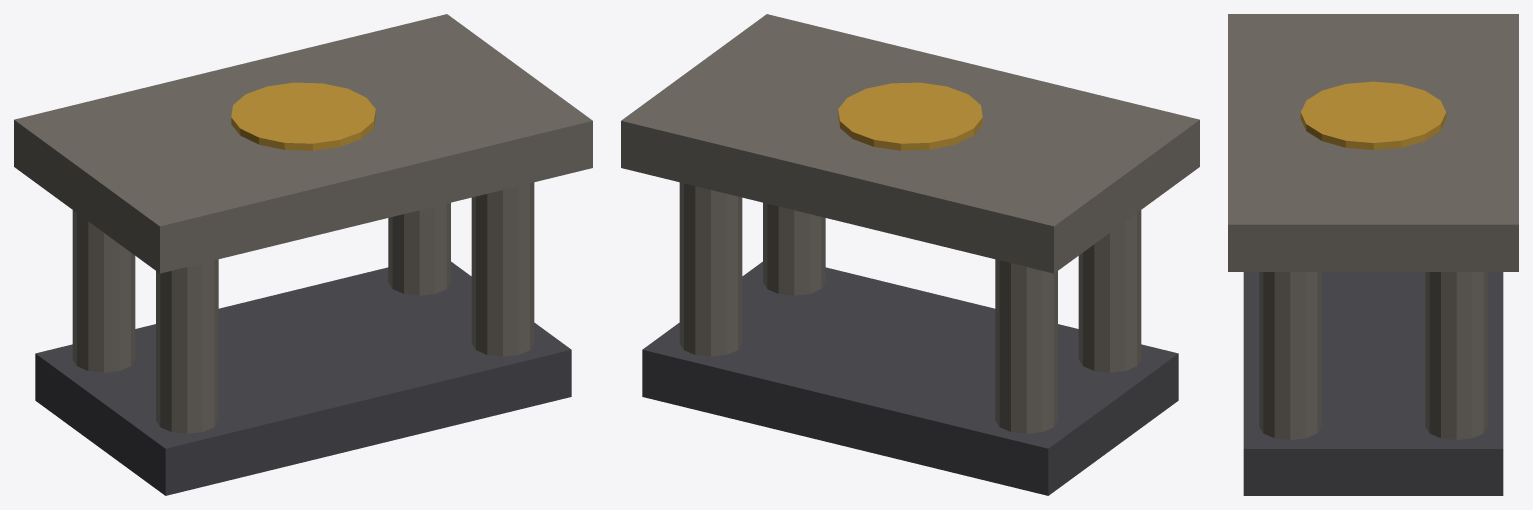
The model's file is dungeon_altar_variant_a.obj.
The picture shows the model from 3 angles, left to right: view 1: azimuth 30°, elevation 25°; view 2: azimuth 150°, elevation 25°; view 3: azimuth 270°, elevation 25°; orthographic projection.
Parts seen in each view (by area): view 1: dungeon_altar_variant_a; view 2: dungeon_altar_variant_a; view 3: dungeon_altar_variant_a.
Boxes of the visible parts, x1,y1,x2,y2 form: dungeon_altar_variant_a: (14, 14, 592, 495); dungeon_altar_variant_a: (621, 14, 1199, 495); dungeon_altar_variant_a: (1228, 14, 1518, 495).
Size of the model in its own units: 0.96 by 0.605 by 0.56.
